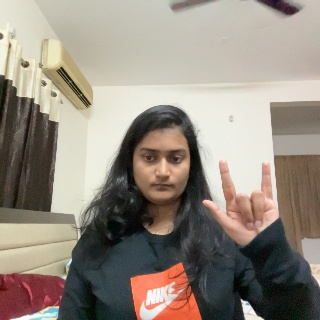Face: (133, 121, 192, 205)
I Love You: (201, 161, 282, 251)
